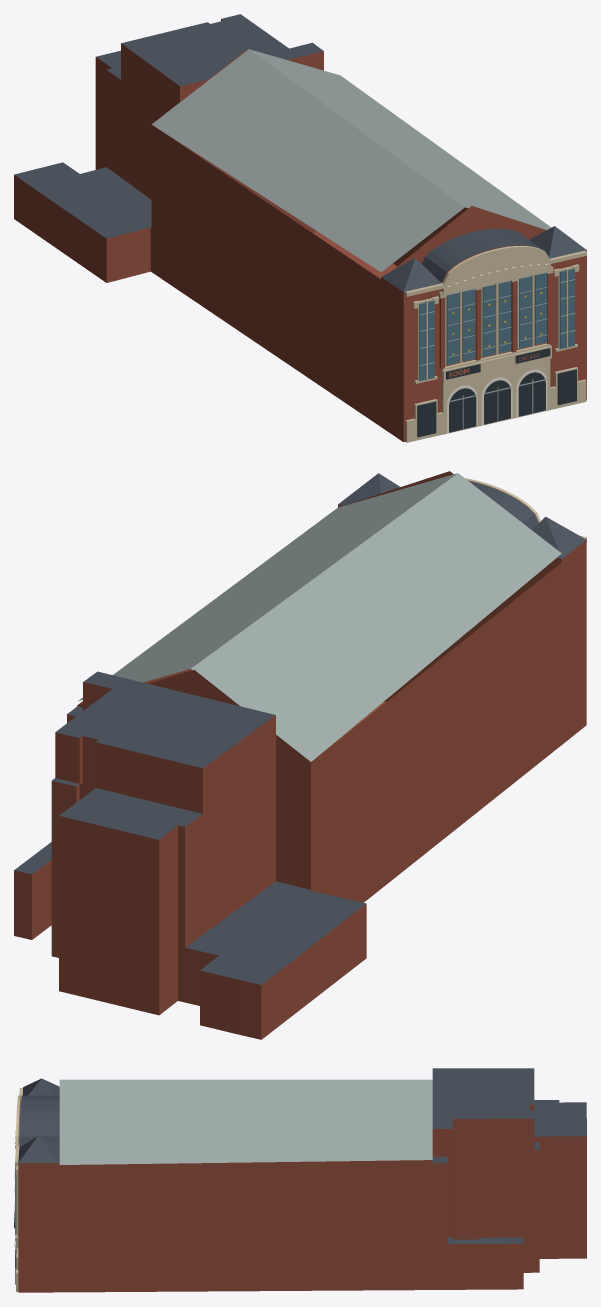
File: boom-chicago.glb
The picture shows the model from 3 angles, top to bottom: view 1: azimuth 30°, elevation 25°; view 2: azimuth 150°, elevation 25°; view 3: azimuth 270°, elevation 25°; orthographic projection. The views are drawn at different scales.
Parts seen in each view (by area): view 1: boom-chicago; view 2: boom-chicago; view 3: boom-chicago.
Boxes of the visible parts, x1,y1,x2,y2 form: boom-chicago: (14, 14, 586, 442); boom-chicago: (14, 471, 586, 1039); boom-chicago: (14, 1068, 586, 1292).
Size of the model in its own units: 18.53 by 14.47 by 43.7.
